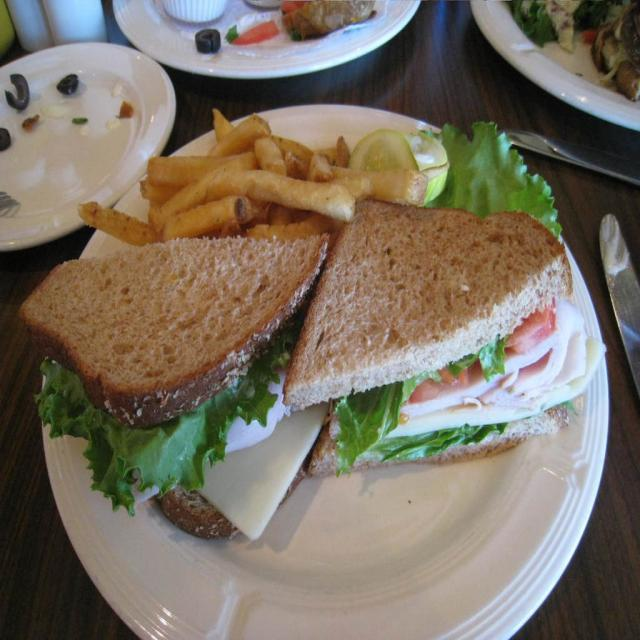Sandwich: (14, 231, 334, 542), (279, 200, 611, 474)
